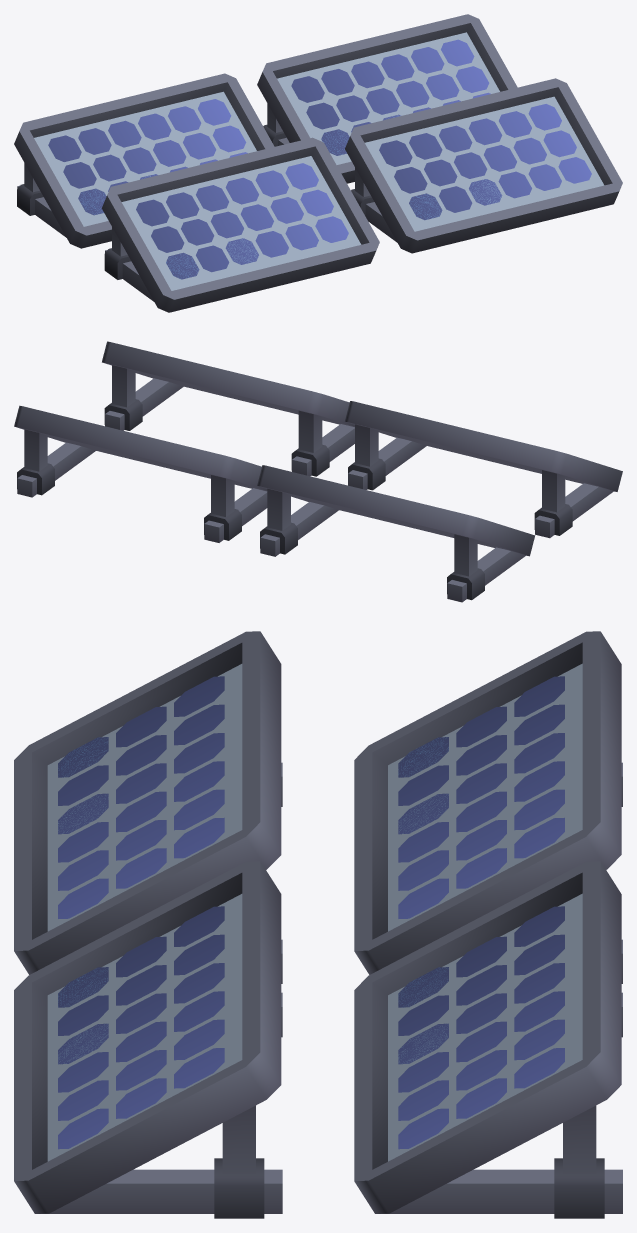
The model's file is solar.fbx.
The picture shows the model from 3 angles, top to bottom: view 1: azimuth 30°, elevation 25°; view 2: azimuth 150°, elevation 25°; view 3: azimuth 270°, elevation 25°; orthographic projection. The views are drawn at different scales.
Parts seen in each view (by area): view 1: solar-panel-landscape-group; view 2: solar-panel-landscape-group; view 3: solar-panel-landscape-group.
Part boxes in pixels (x1=…): solar-panel-landscape-group: x1=14, y1=14, x2=622, y2=312; solar-panel-landscape-group: x1=14, y1=341, x2=622, y2=602; solar-panel-landscape-group: x1=14, y1=631, x2=622, y2=1218.
Bounding box in the file's own units: 1 × 0.1734 × 0.5914.
